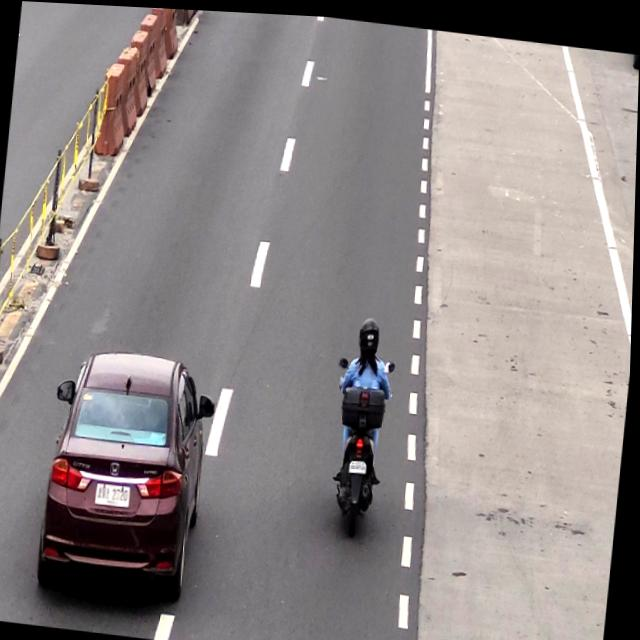Car: (43, 344, 213, 588)
License-Plate: (96, 481, 135, 511), (351, 458, 372, 472)
Motorcycle: (331, 320, 394, 526)
